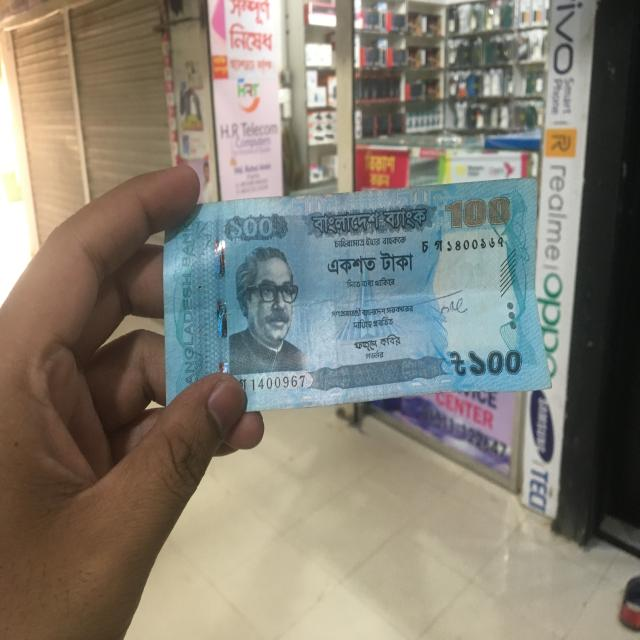Taka: (160, 196, 547, 402)
